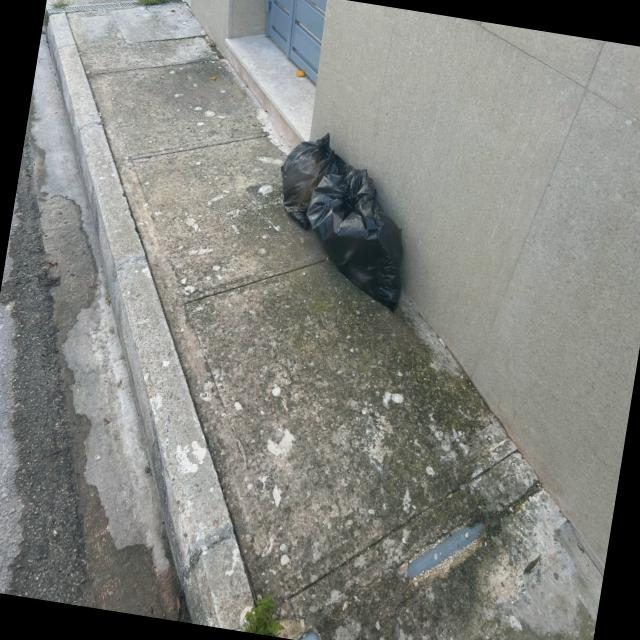black_bag: (296, 158, 422, 318), (271, 122, 357, 234)
